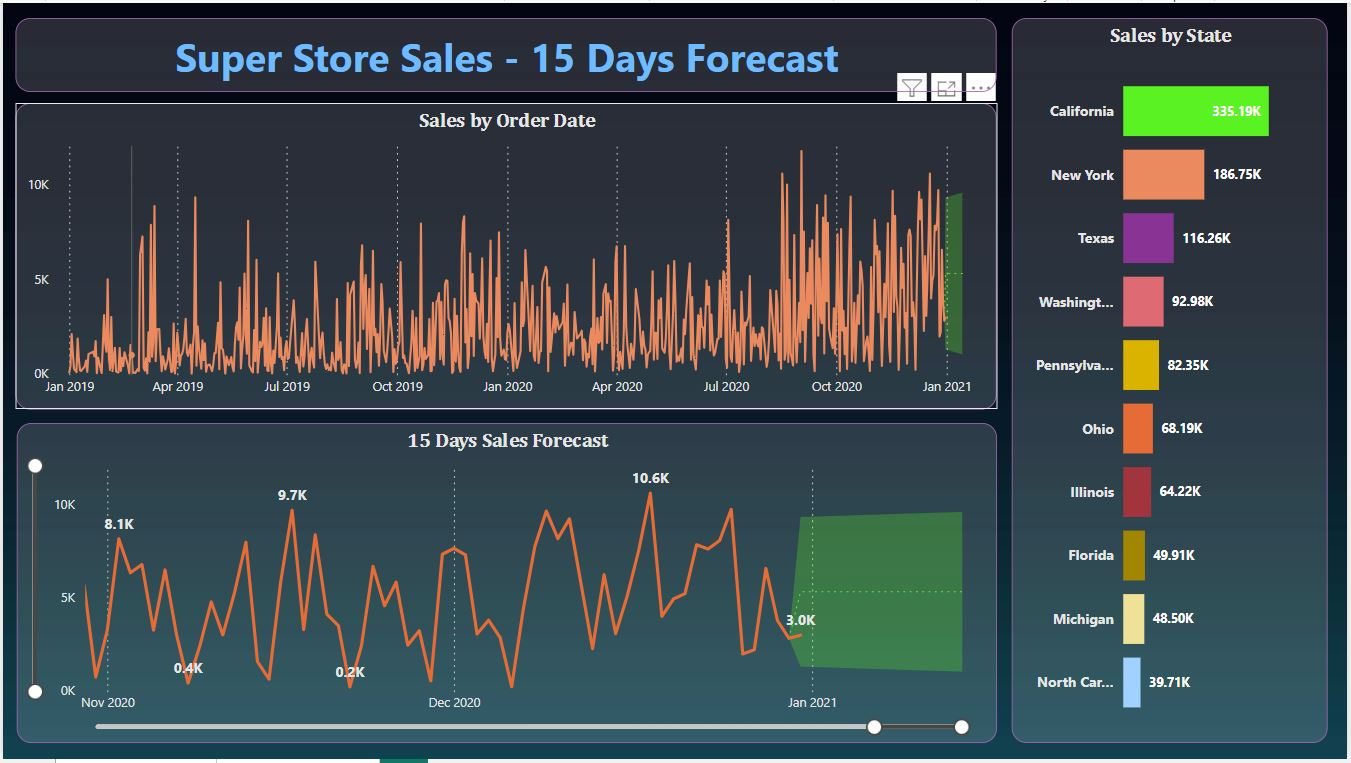

The dashboard page shown, as its layout file describes it:
{"tool":"powerbi","page":{"name":"15 Days Forecast","canvas":[1280,720],"ordinal":1},"visuals":[{"type":"lineChart","title":"Sales by Order Date","fields":{"Y":["Sum(SuperStore_Sales_Dataset.Sales)"],"Category":["SuperStore_Sales_Dataset.Order Date"]},"box":[11.9,95.2,934.5,291.7],"z":0},{"type":"lineChart","title":"15 Days Sales Forecast","fields":{"Y":["Sum(SuperStore_Sales_Dataset.Sales)"],"Category":["SuperStore_Sales_Dataset.Order Date"]},"box":[13.1,400,933.3,304.8],"z":1},{"type":"textbox","box":[11.9,14.3,934.5,70.2],"z":2},{"type":"clusteredBarChart","title":"Sales by State","fields":{"Y":["Sum(SuperStore_Sales_Dataset.Sales)"],"Category":["SuperStore_Sales_Dataset.State"]},"box":[960.7,14.3,301.2,690.5],"z":3}]}

Visuals, with their boxes in screenshot pixels (x1, y1, x2, y2), scaled from the page's 1280x720 canvas onto the 1351x763 screenshot:
"Sales by Order Date" lineChart: l=13, t=101, r=999, b=410
"15 Days Sales Forecast" lineChart: l=14, t=424, r=999, b=747
textbox: l=13, t=15, r=999, b=90
"Sales by State" clusteredBarChart: l=1014, t=15, r=1332, b=747
